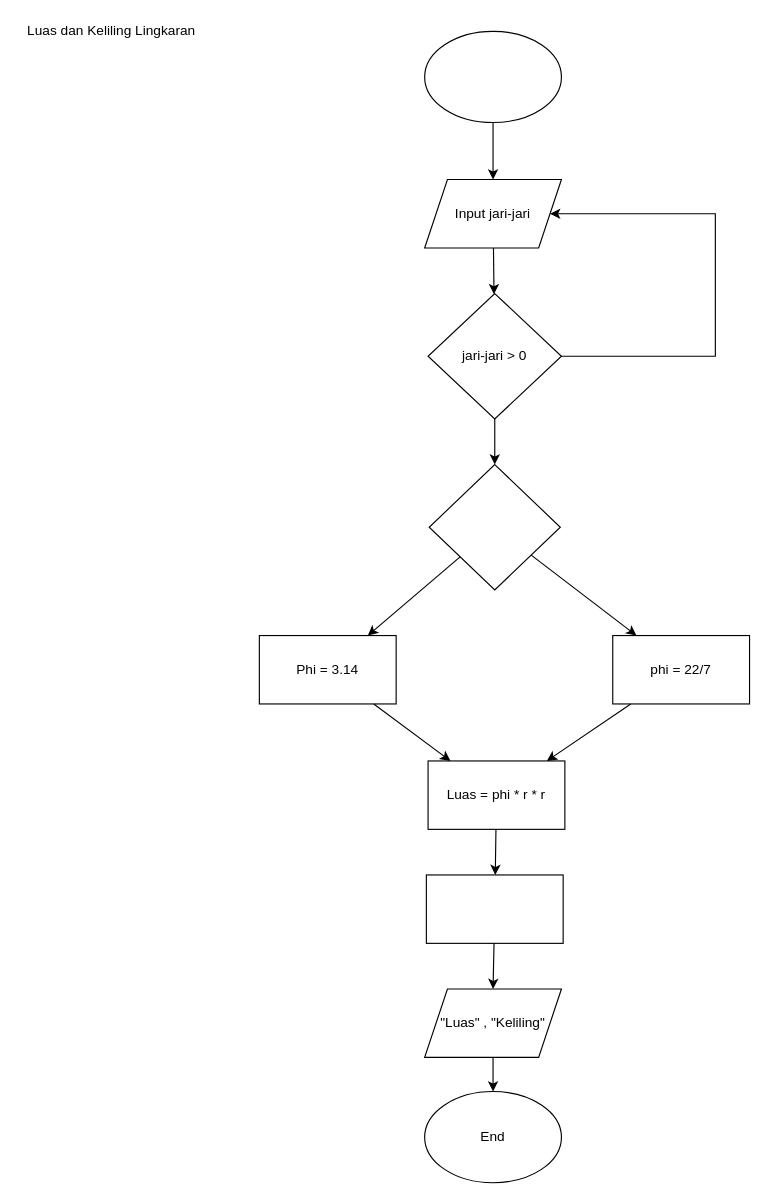
The diagram is 770 pixels wide and 1203 high, and some of its shapes have lost their labels. Here are the shapes that lost their labels. From the top down, the centre of each, then its label:
At (492,76): "Start".
At (494,526): "jari-jari % 7 == 0".
At (494,908): "Keliling = 2 * phi * r".
